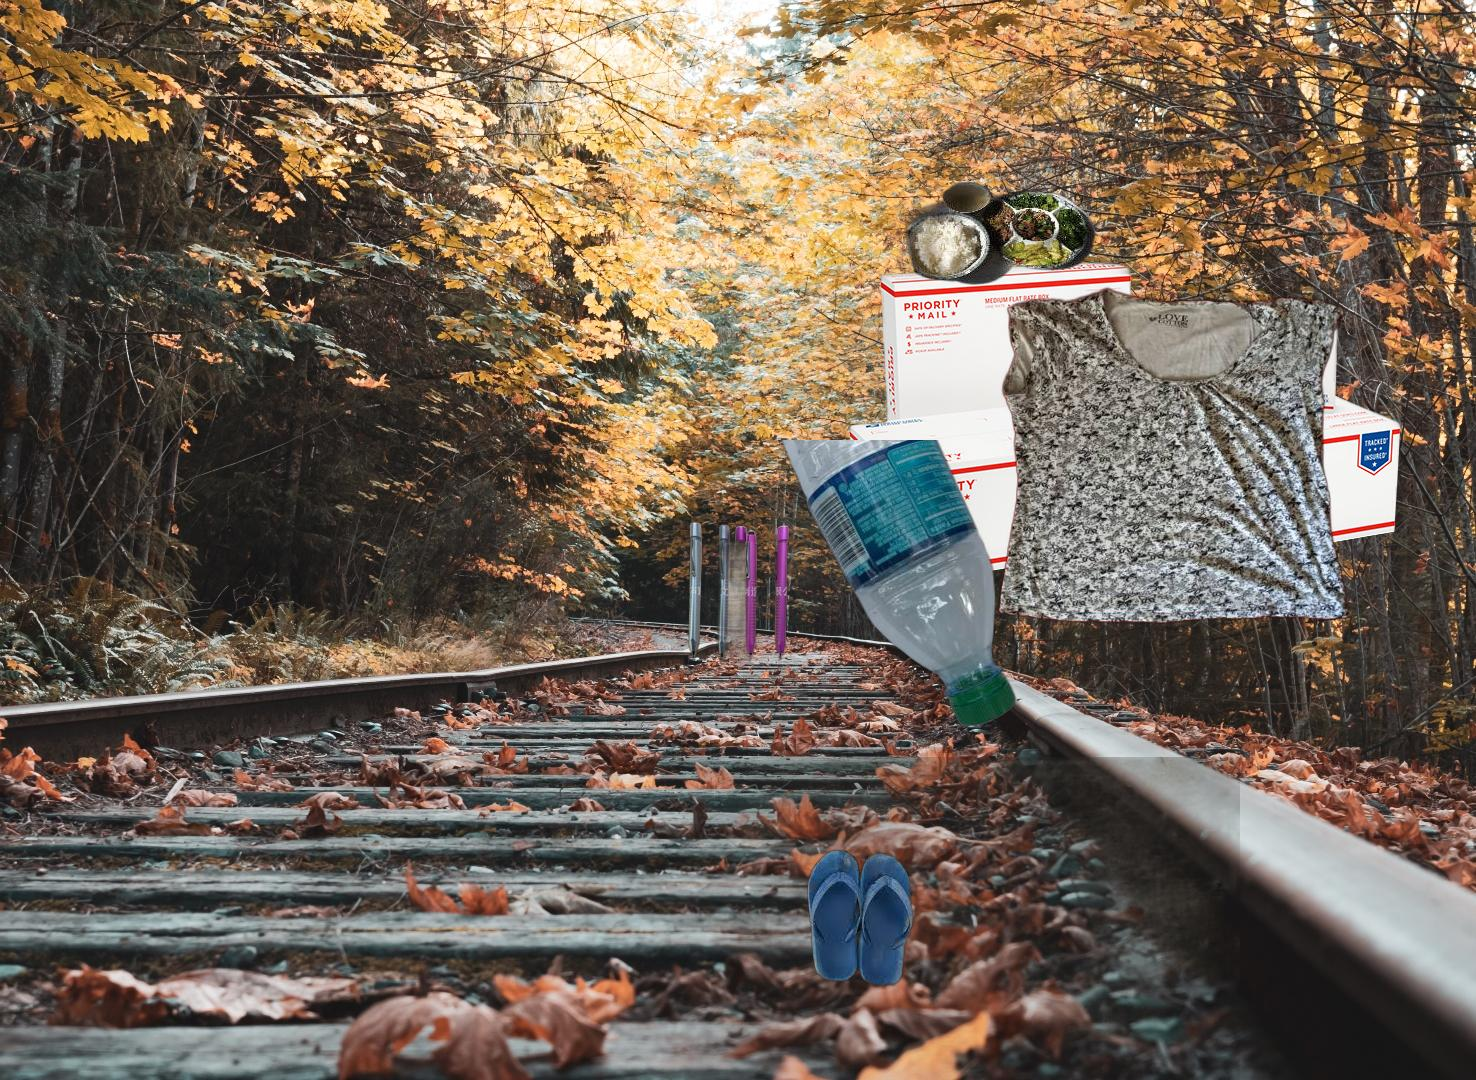biological: (898, 179, 1098, 287)
clothes: (995, 284, 1353, 627)
penholder: (681, 518, 796, 665)
plastic-bottles: (776, 440, 1020, 728)
shoes: (804, 847, 916, 988)
trashbox-cardboard: (217, 757, 1240, 1080), (849, 260, 1402, 586)
